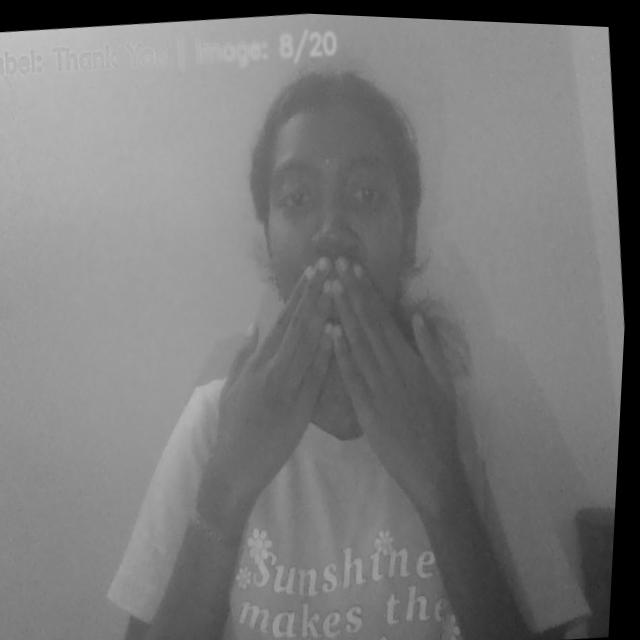Thank You: (193, 236, 481, 506)
